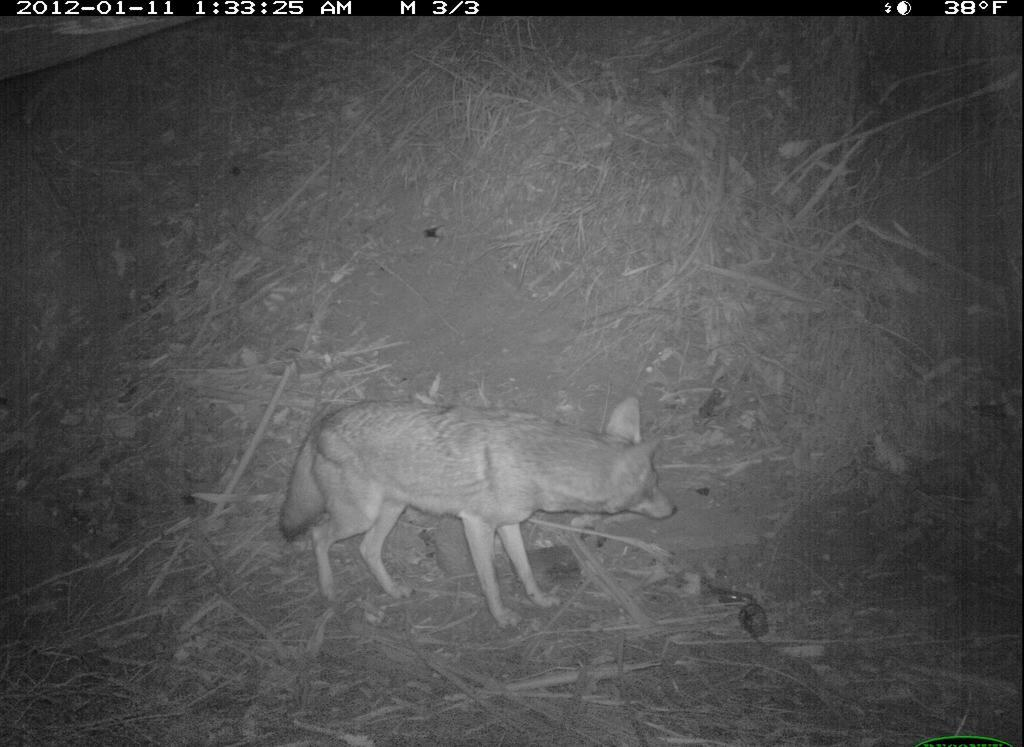coyote: (281, 392, 680, 633)
